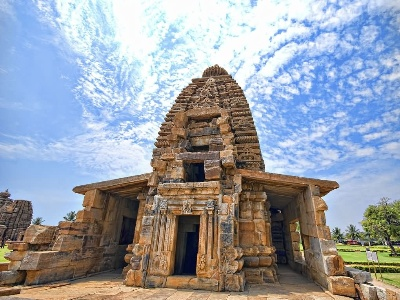amalaka: (186, 58, 244, 87)
gopuram: (152, 70, 272, 171)
